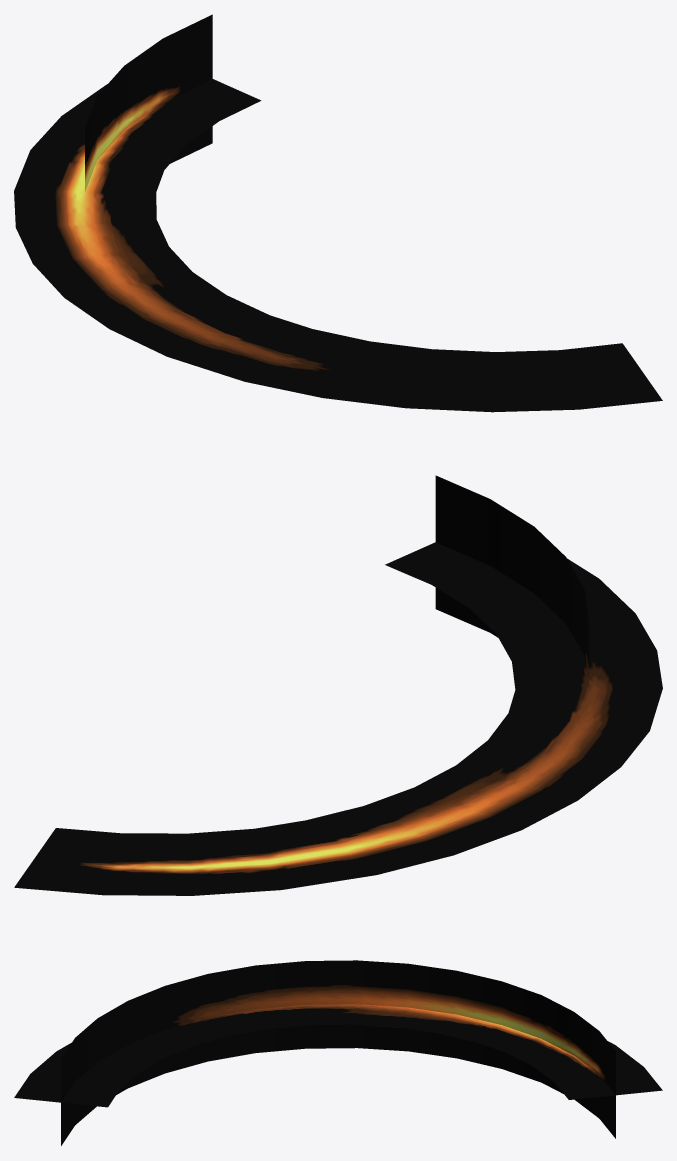
Rendered from half_cylinder02.FBX.
3 views of the same model, one above another, from view 1: azimuth 30°, elevation 25°; view 2: azimuth 150°, elevation 25°; view 3: azimuth 270°, elevation 25° (orthographic). The views are drawn at different scales.
Visible parts, largest first — view 1: half_cylinder02; view 2: half_cylinder02; view 3: half_cylinder02.
Boxes of the visible parts, x1,y1,x2,y2 form: half_cylinder02: (14, 14, 662, 412); half_cylinder02: (14, 475, 662, 895); half_cylinder02: (14, 960, 662, 1145).
Bounding box in the file's own units: 56.04 × 18.54 × 124.
